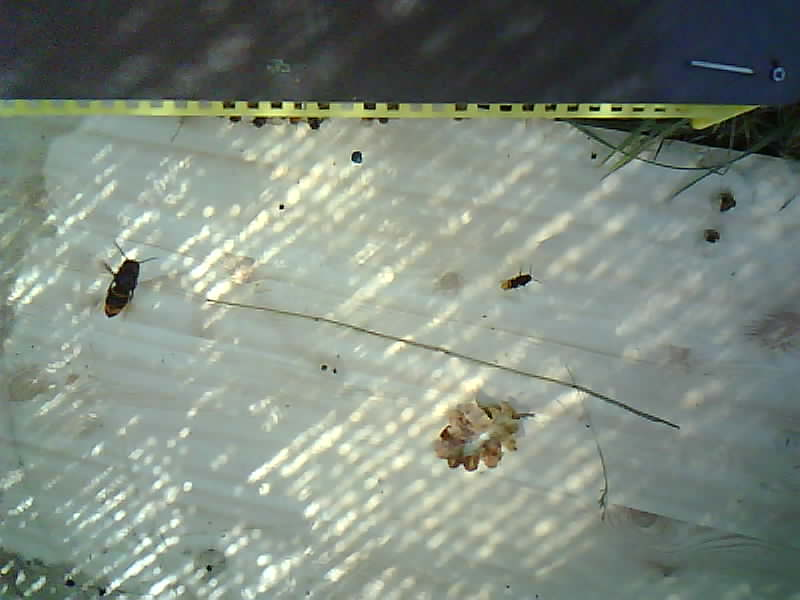bee: (499, 269, 538, 296)
hornet: (98, 254, 141, 320)
